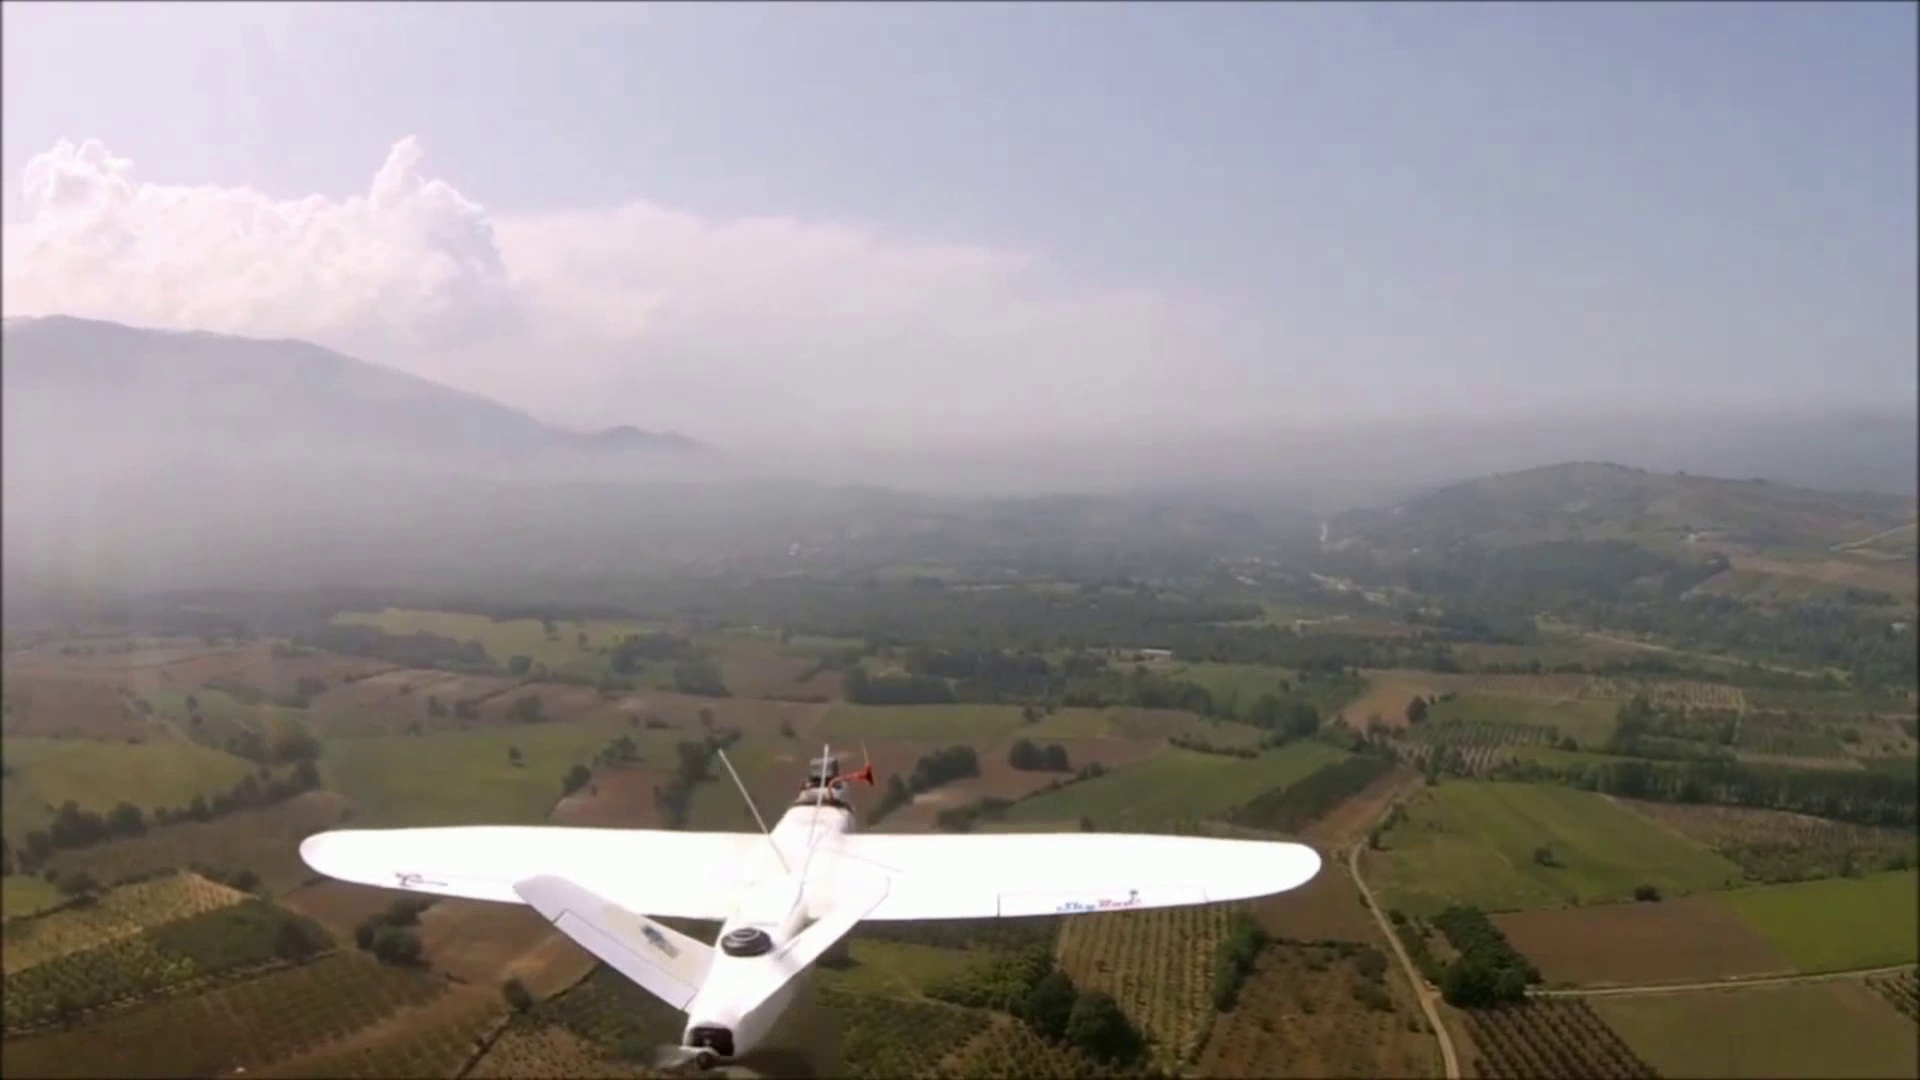airplane: (295, 756, 1323, 1065)
